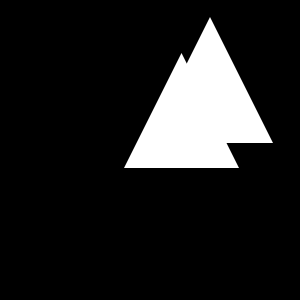triangle: (147, 17, 273, 143), (124, 53, 239, 168)
